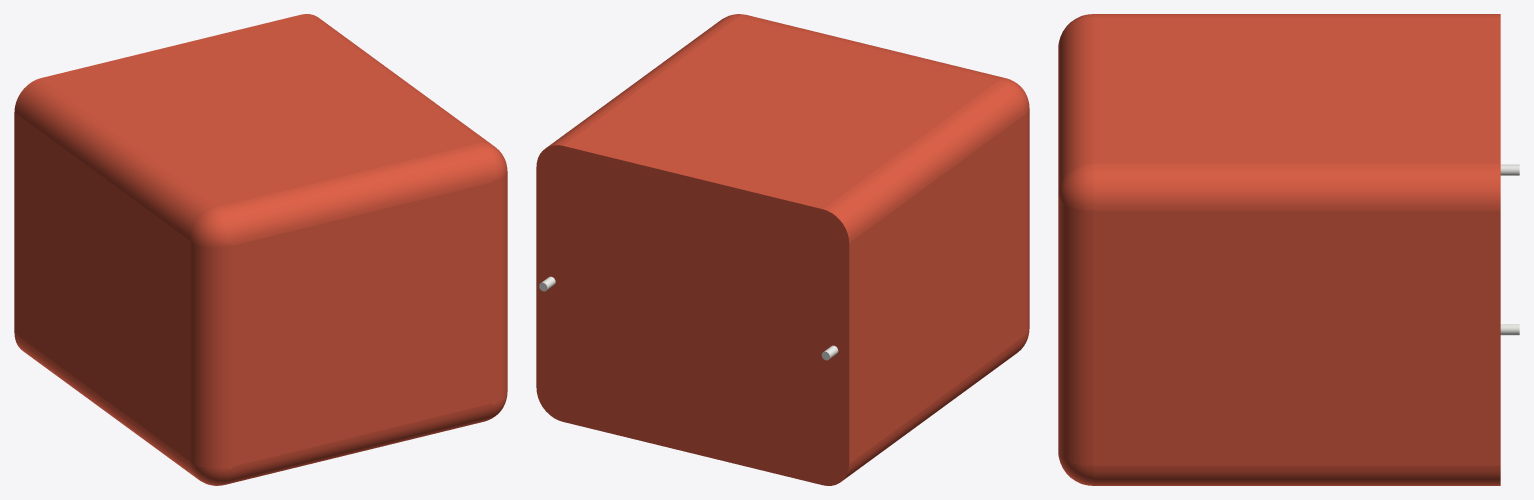
Rendered from C_Rect_L41.5mm_W35.0mm_P37.50mm_MKS4.glb.
3 views of the same model, side by side, from view 1: azimuth 30°, elevation 25°; view 2: azimuth 150°, elevation 25°; view 3: azimuth 270°, elevation 25° (orthographic). The views are drawn at different scales.
Visible parts, largest first — view 1: Shape_IndexedFaceSet.007, Shape_IndexedFaceSet.009, Shape_IndexedFaceSet, Shape_IndexedFaceSet.016, Shape_IndexedFaceSet.004, Shape_IndexedFaceSet.002, Shape_IndexedFaceSet.015, Shape_IndexedFaceSet.017, Shape_IndexedFaceSet.001, Shape_IndexedFaceSet.011, Shape_IndexedFaceSet.008, Shape_IndexedFaceSet.005 (+1 smaller); view 2: Shape_IndexedFaceSet.003, Shape_IndexedFaceSet.009, Shape_IndexedFaceSet, Shape_IndexedFaceSet.004, Shape_IndexedFaceSet.001, Shape_IndexedFaceSet.011, Shape_IndexedFaceSet.016, Shape_IndexedFaceSet.002; view 3: Shape_IndexedFaceSet.012, Shape_IndexedFaceSet.009, Shape_IndexedFaceSet.011, Shape_IndexedFaceSet.017, Shape_IndexedFaceSet.010, Shape_IndexedFaceSet.016, Shape_IndexedFaceSet.004, Shape_IndexedFaceSet.019, Shape_IndexedFaceSet.018.
Part boxes in pixels (x1=…): Shape_IndexedFaceSet.007: x1=232, y1=182, x2=492, y2=466; Shape_IndexedFaceSet.009: x1=41, y1=14, x2=476, y2=206; Shape_IndexedFaceSet: x1=14, y1=112, x2=190, y2=461; Shape_IndexedFaceSet.016: x1=217, y1=143, x2=492, y2=245; Shape_IndexedFaceSet.004: x1=14, y1=78, x2=216, y2=240; Shape_IndexedFaceSet.002: x1=190, y1=241, x2=232, y2=468; Shape_IndexedFaceSet.015: x1=225, y1=403, x2=492, y2=484; Shape_IndexedFaceSet.017: x1=492, y1=171, x2=507, y2=402; Shape_IndexedFaceSet.001: x1=14, y1=333, x2=197, y2=478; Shape_IndexedFaceSet.011: x1=301, y1=14, x2=491, y2=144; Shape_IndexedFaceSet.008: x1=190, y1=207, x2=232, y2=247; Shape_IndexedFaceSet.005: x1=190, y1=462, x2=232, y2=485; Shape_IndexedFaceSet.003: x1=536, y1=145, x2=849, y2=485; Shape_IndexedFaceSet.009: x1=563, y1=17, x2=998, y2=209; Shape_IndexedFaceSet: x1=849, y1=114, x2=1025, y2=463; Shape_IndexedFaceSet.004: x1=823, y1=80, x2=1025, y2=242; Shape_IndexedFaceSet.001: x1=843, y1=335, x2=1025, y2=479; Shape_IndexedFaceSet.011: x1=546, y1=16, x2=738, y2=147; Shape_IndexedFaceSet.016: x1=739, y1=14, x2=1005, y2=79; Shape_IndexedFaceSet.002: x1=1025, y1=108, x2=1029, y2=334; Shape_IndexedFaceSet.012: x1=1093, y1=210, x2=1500, y2=465; Shape_IndexedFaceSet.009: x1=1093, y1=17, x2=1500, y2=163; Shape_IndexedFaceSet.011: x1=1093, y1=163, x2=1500, y2=210; Shape_IndexedFaceSet.017: x1=1058, y1=197, x2=1093, y2=465; Shape_IndexedFaceSet.010: x1=1093, y1=465, x2=1500, y2=485; Shape_IndexedFaceSet.016: x1=1058, y1=17, x2=1093, y2=191; Shape_IndexedFaceSet.004: x1=1093, y1=14, x2=1500, y2=17; Shape_IndexedFaceSet.019: x1=1058, y1=164, x2=1093, y2=210; Shape_IndexedFaceSet.018: x1=1058, y1=452, x2=1093, y2=485.
Size of the model in its own units: 16.34 by 13.78 by 18.07.
